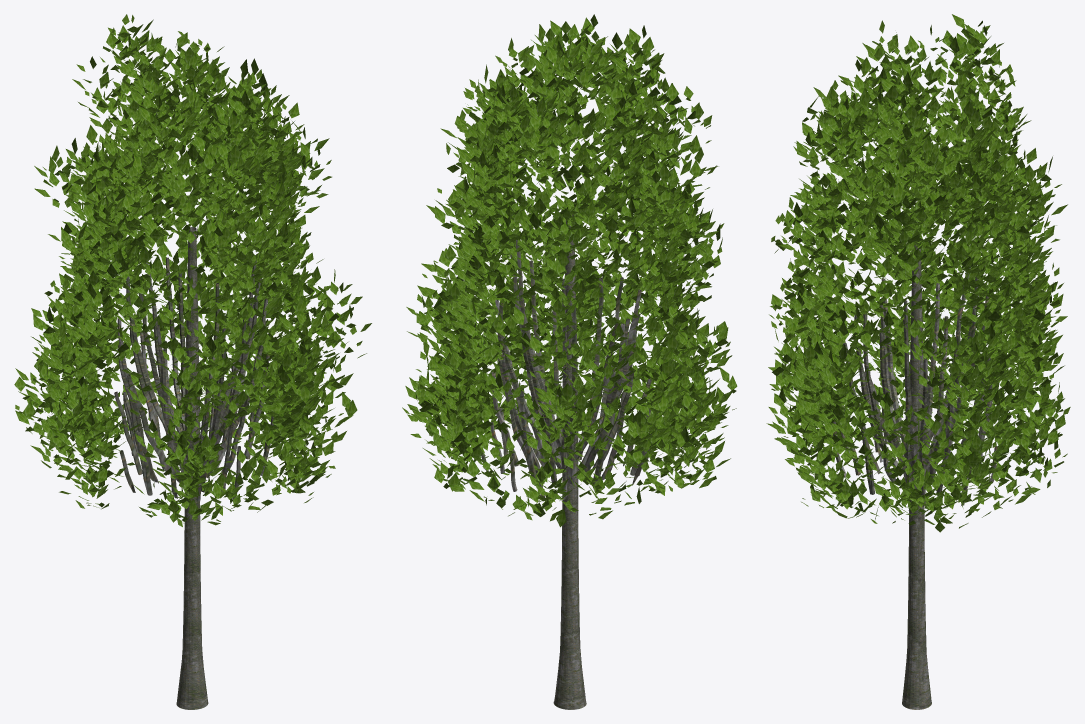
The model's file is tree_22.glb.
3 renders of one model, left to right at view 1: azimuth 30°, elevation 25°; view 2: azimuth 150°, elevation 25°; view 3: azimuth 270°, elevation 25°, orthographic. The views are drawn at different scales.
Parts seen in each view (by area): view 1: MainBuilding; view 2: MainBuilding; view 3: MainBuilding.
Part boxes in pixels (x1,y1,x2,y2): MainBuilding: (14,14,371,709); MainBuilding: (402,14,737,709); MainBuilding: (766,14,1070,709).
Size of the model in its own units: 0.4595 by 1.01 by 0.4165.
Materials: 1 (1 with a texture image).
